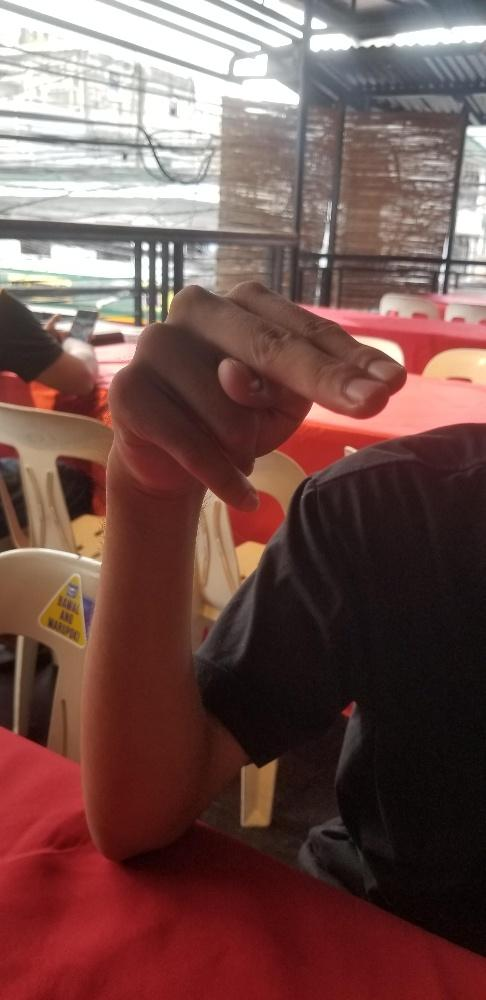n: (104, 275, 408, 516)
